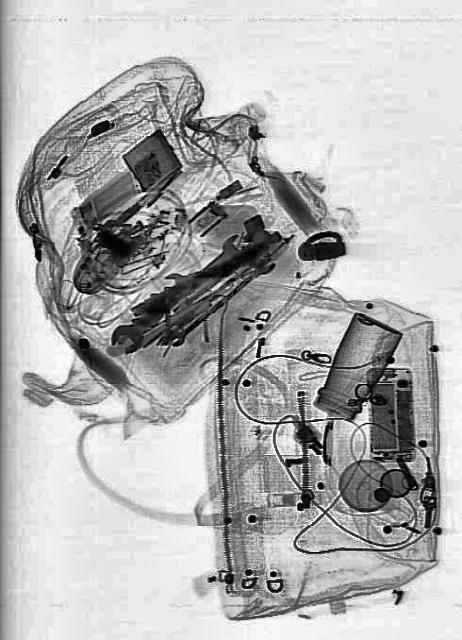Wrench: (106, 226, 248, 364), (163, 248, 277, 348), (160, 240, 264, 298)
